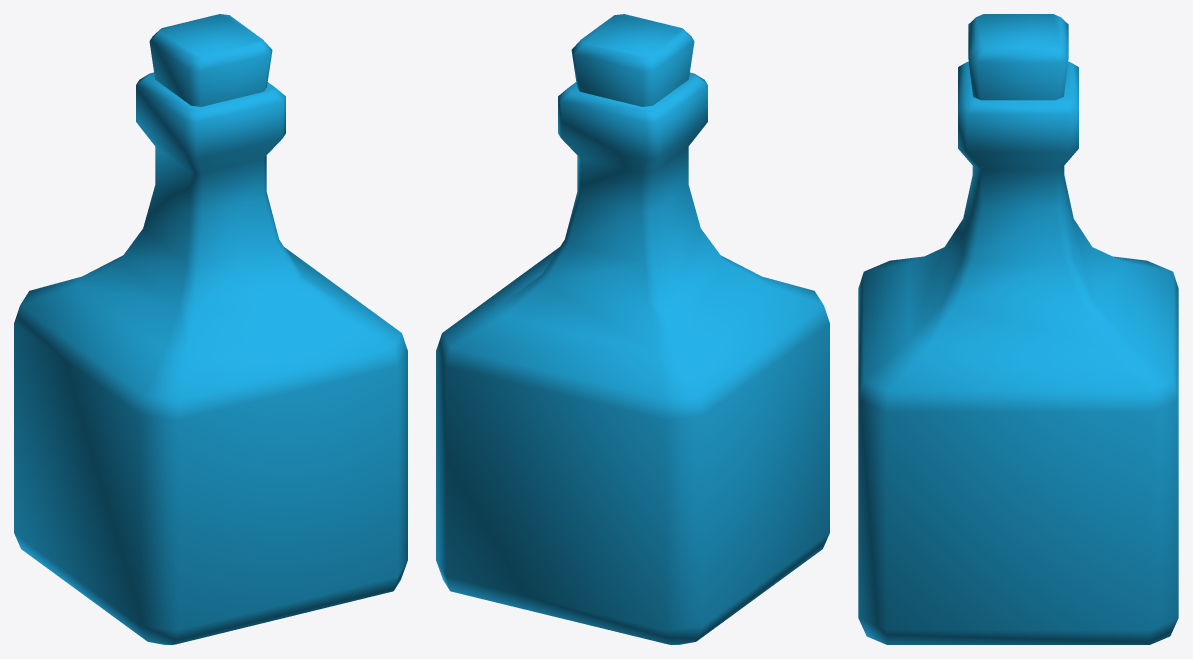
Rendered from mana_potion_01_sm.glb.
3 renders of one model, left to right at view 1: azimuth 30°, elevation 25°; view 2: azimuth 150°, elevation 25°; view 3: azimuth 270°, elevation 25°, orthographic. The views are drawn at different scales.
Parts seen in each view (by area): view 1: mana_potion_mesh.001; view 2: mana_potion_mesh.001; view 3: mana_potion_mesh.001.
Part boxes in pixels (left/top/right/bottom): mana_potion_mesh.001: left=14, top=14, right=407, bottom=644; mana_potion_mesh.001: left=436, top=14, right=829, bottom=644; mana_potion_mesh.001: left=858, top=14, right=1178, bottom=644.
Size of the model in its own units: 0.2352 by 0.4507 by 0.2352.
